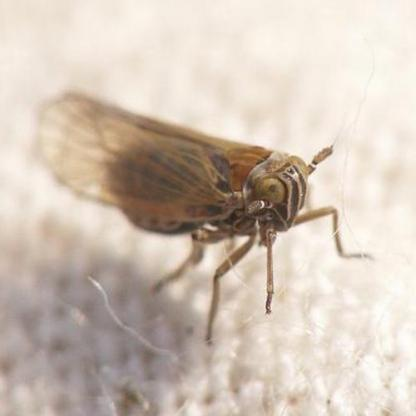brown-planthopper: (38, 92, 338, 274)
